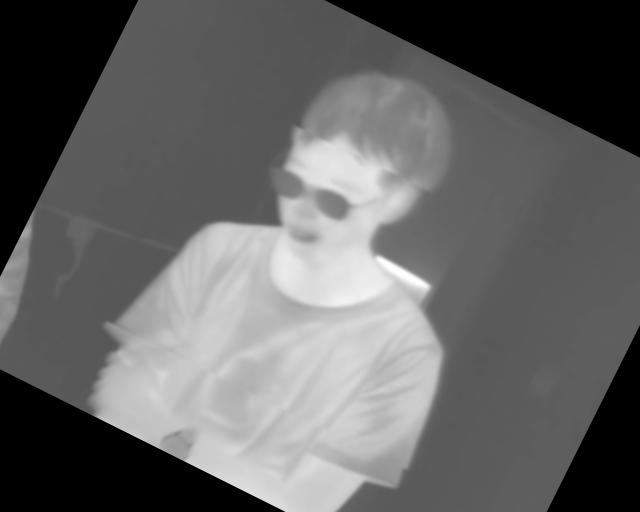face: (238, 39, 477, 301)
